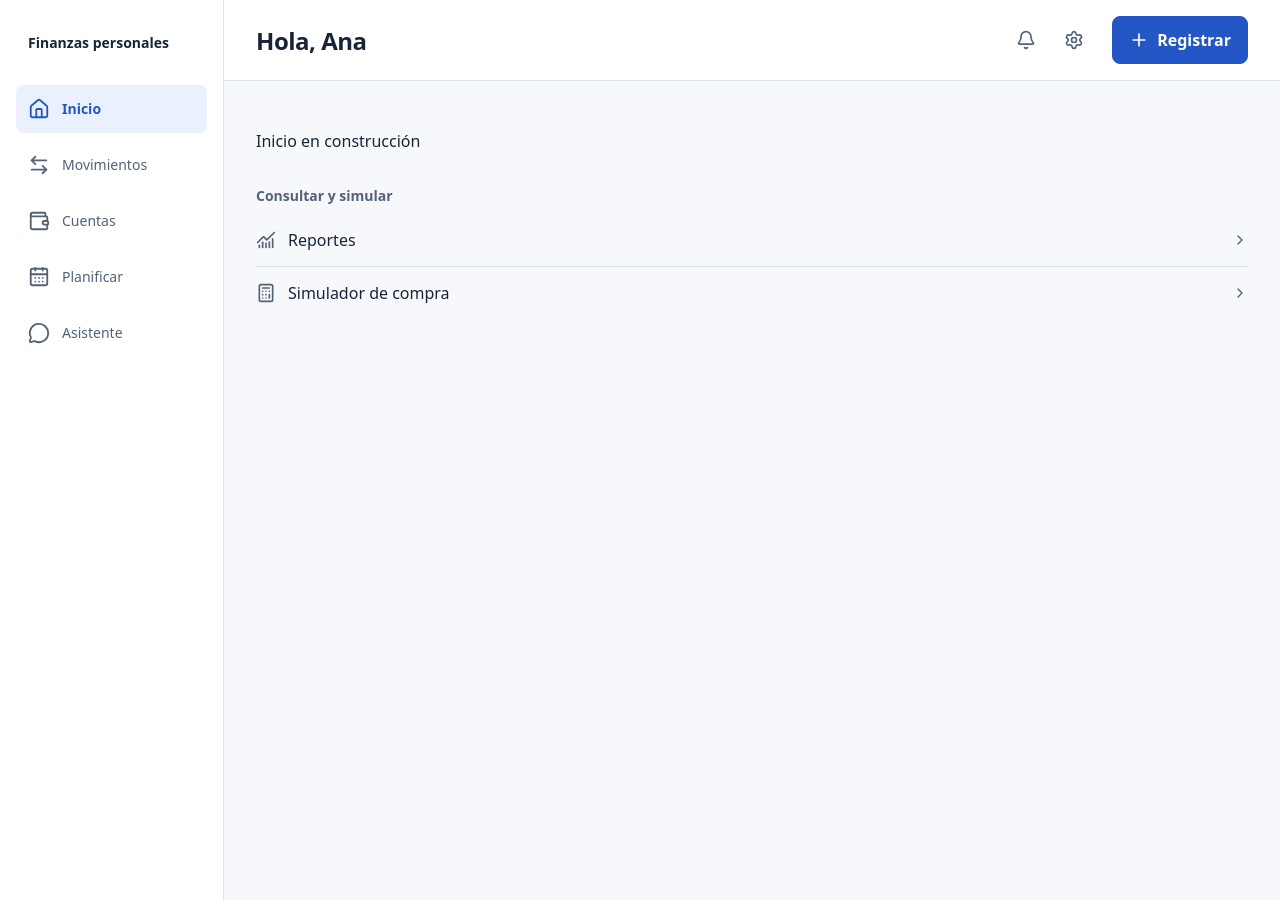
Test: opens reports and simulator from home without claiming their financial data is loaded
The width and height of the screenshot is (1280, 900).
Click the link "Reportes" at (322, 240), box x1=256 y1=229 x2=1248 y2=251
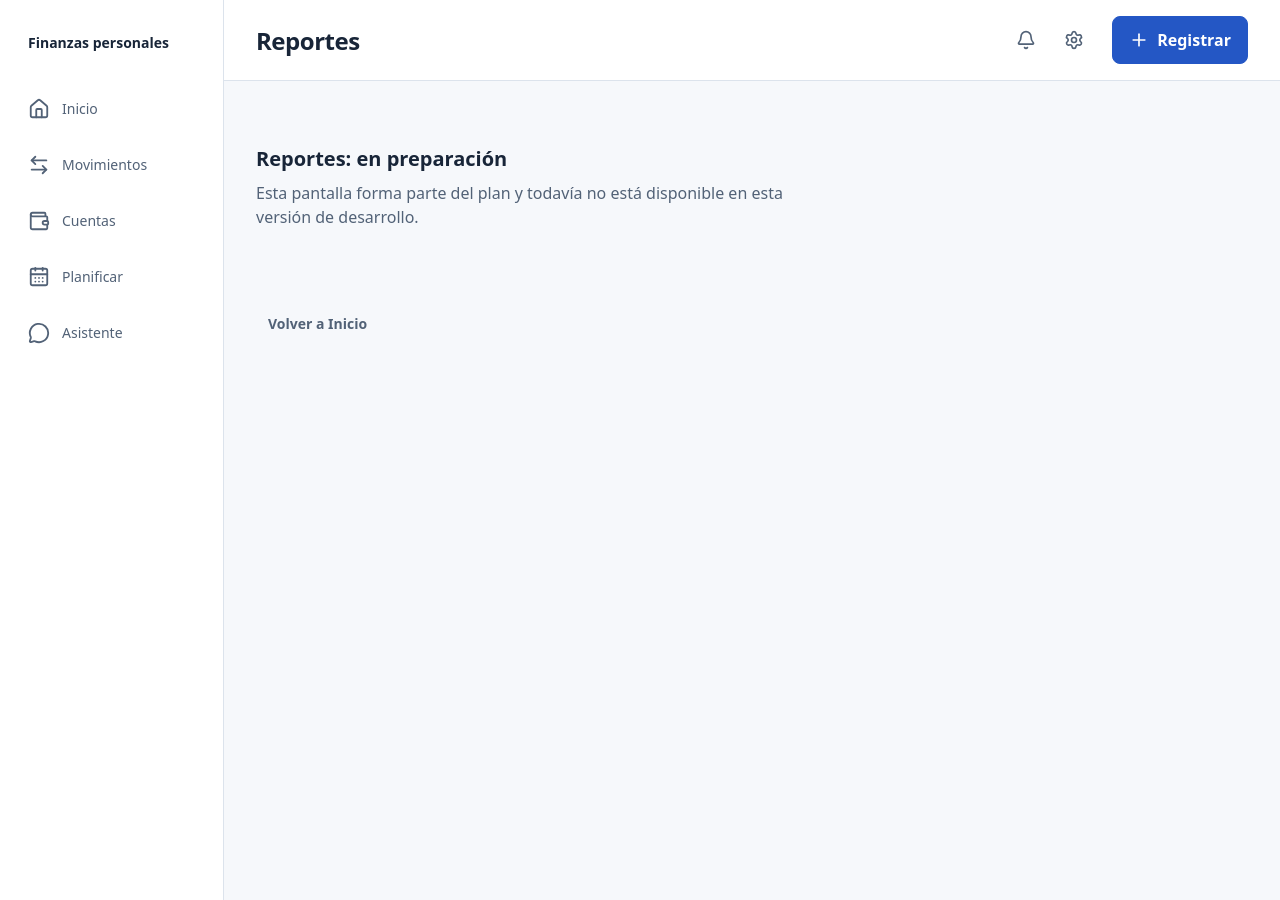
Result: the heading "Reportes: en preparación" is shown at x1=256 y1=145 x2=507 y2=172
Click the link "Volver a Inicio" at (318, 323), box x1=268 y1=314 x2=367 y2=333
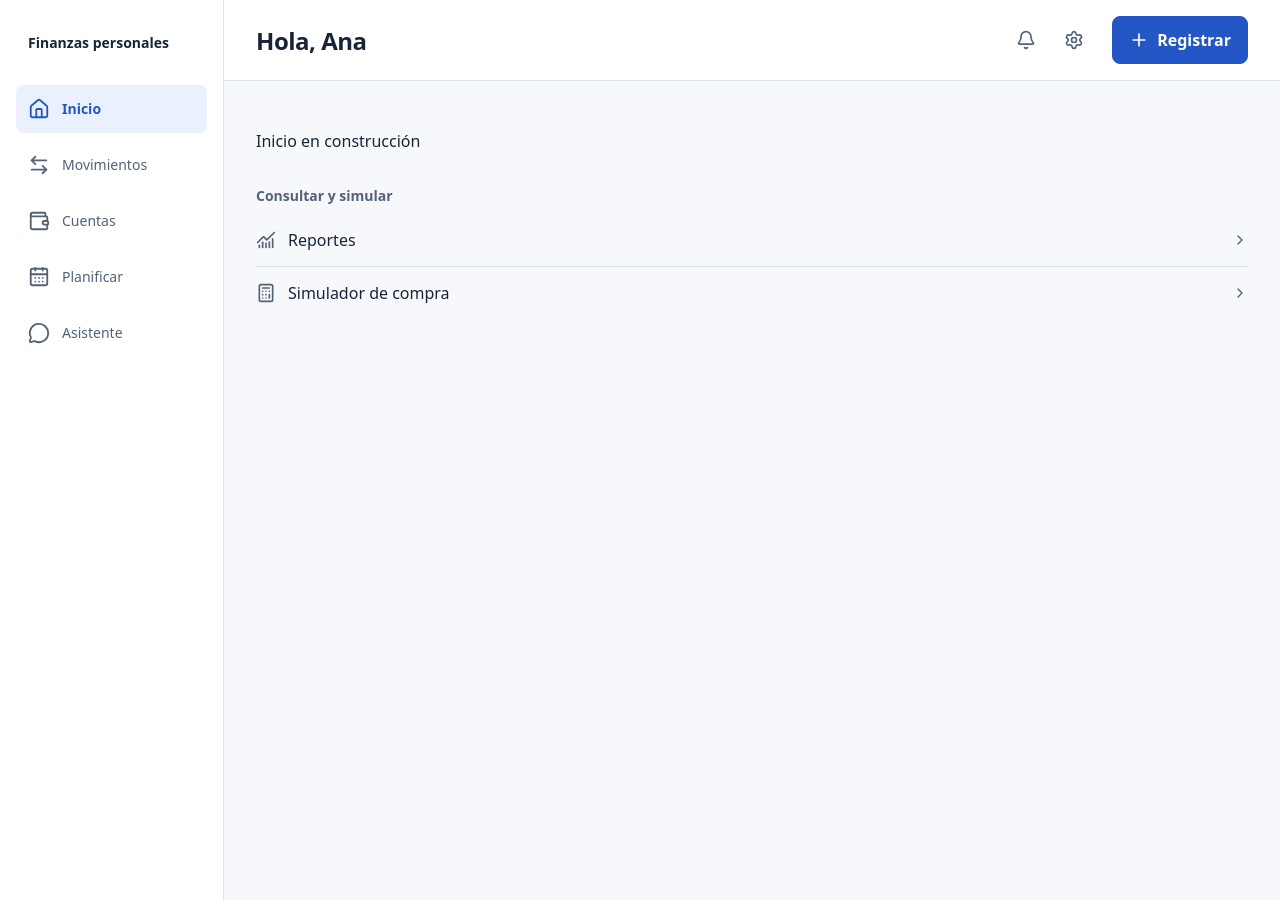
Result: the heading "Hola, Ana" is shown at x1=256 y1=25 x2=367 y2=56
Click the link "Simulador de compra" at (369, 293), box x1=256 y1=282 x2=1248 y2=304
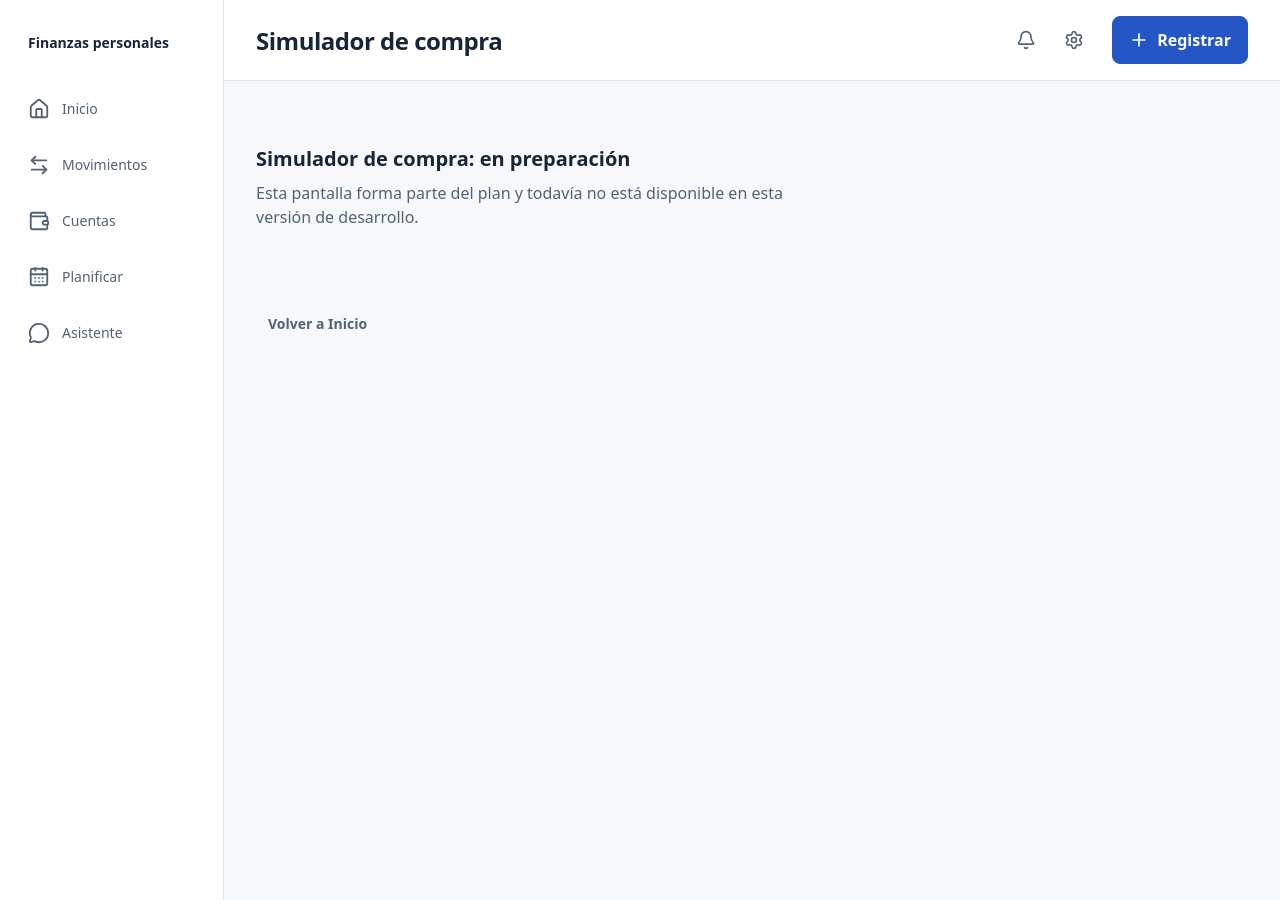
Result: the heading "Simulador de compra: en preparación" is shown at x1=256 y1=145 x2=630 y2=172
